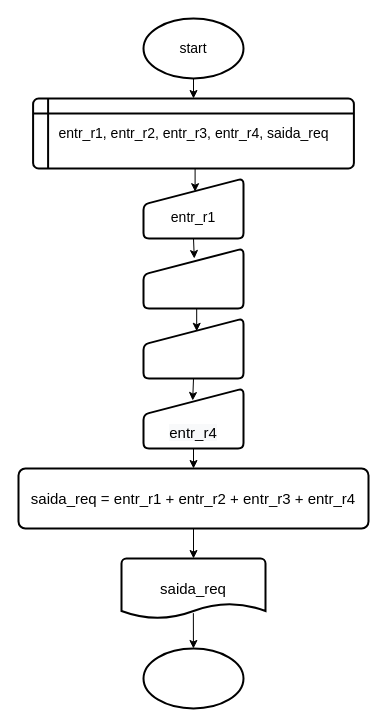
The diagram is 386 pixels wide and 726 high, and some of its shapes have lost their labels. The box of each missing label's shape, as (x1, y1, x2, y2) in pixels:
entr_r2: (142, 247, 244, 309)
entr_r3: (142, 317, 244, 379)
fim: (142, 647, 244, 709)
